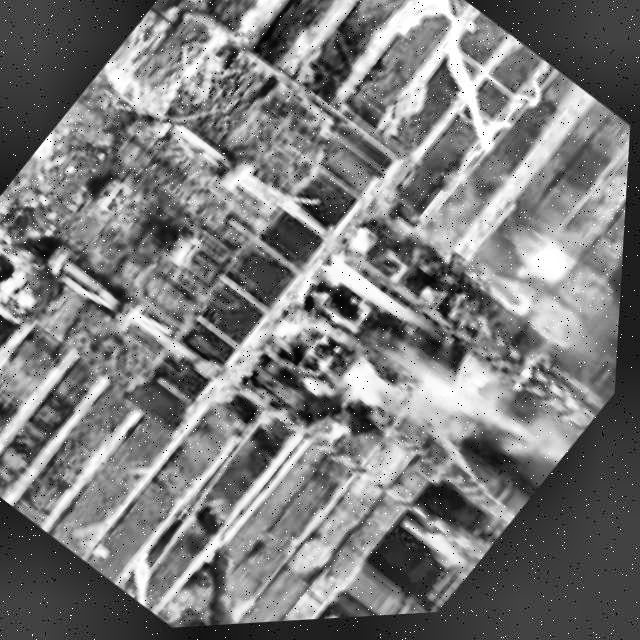Fire: (250, 229, 557, 513)
